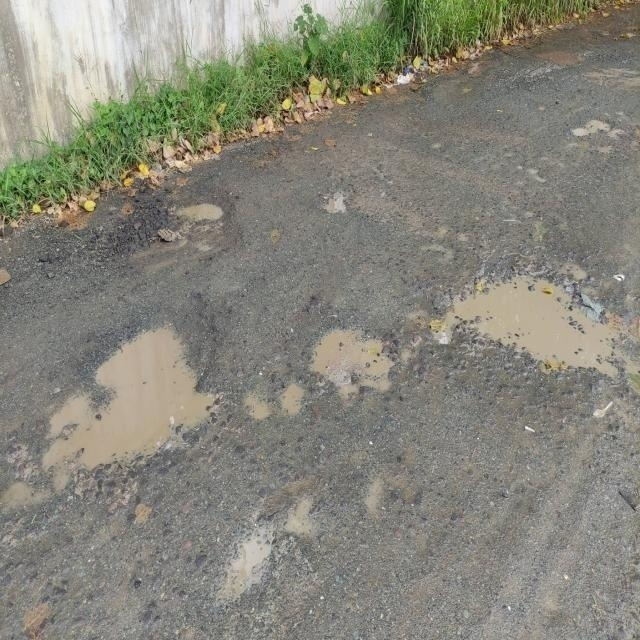pothole: (6, 304, 233, 533), (420, 248, 640, 443), (302, 311, 410, 440), (127, 174, 252, 278), (303, 182, 364, 245), (568, 96, 628, 158)
